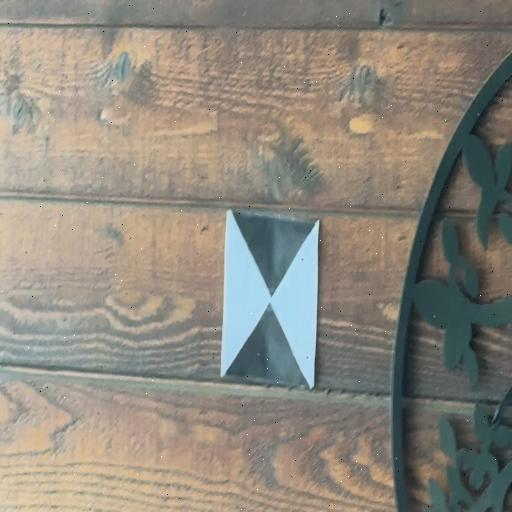target: (219, 211, 320, 387)
